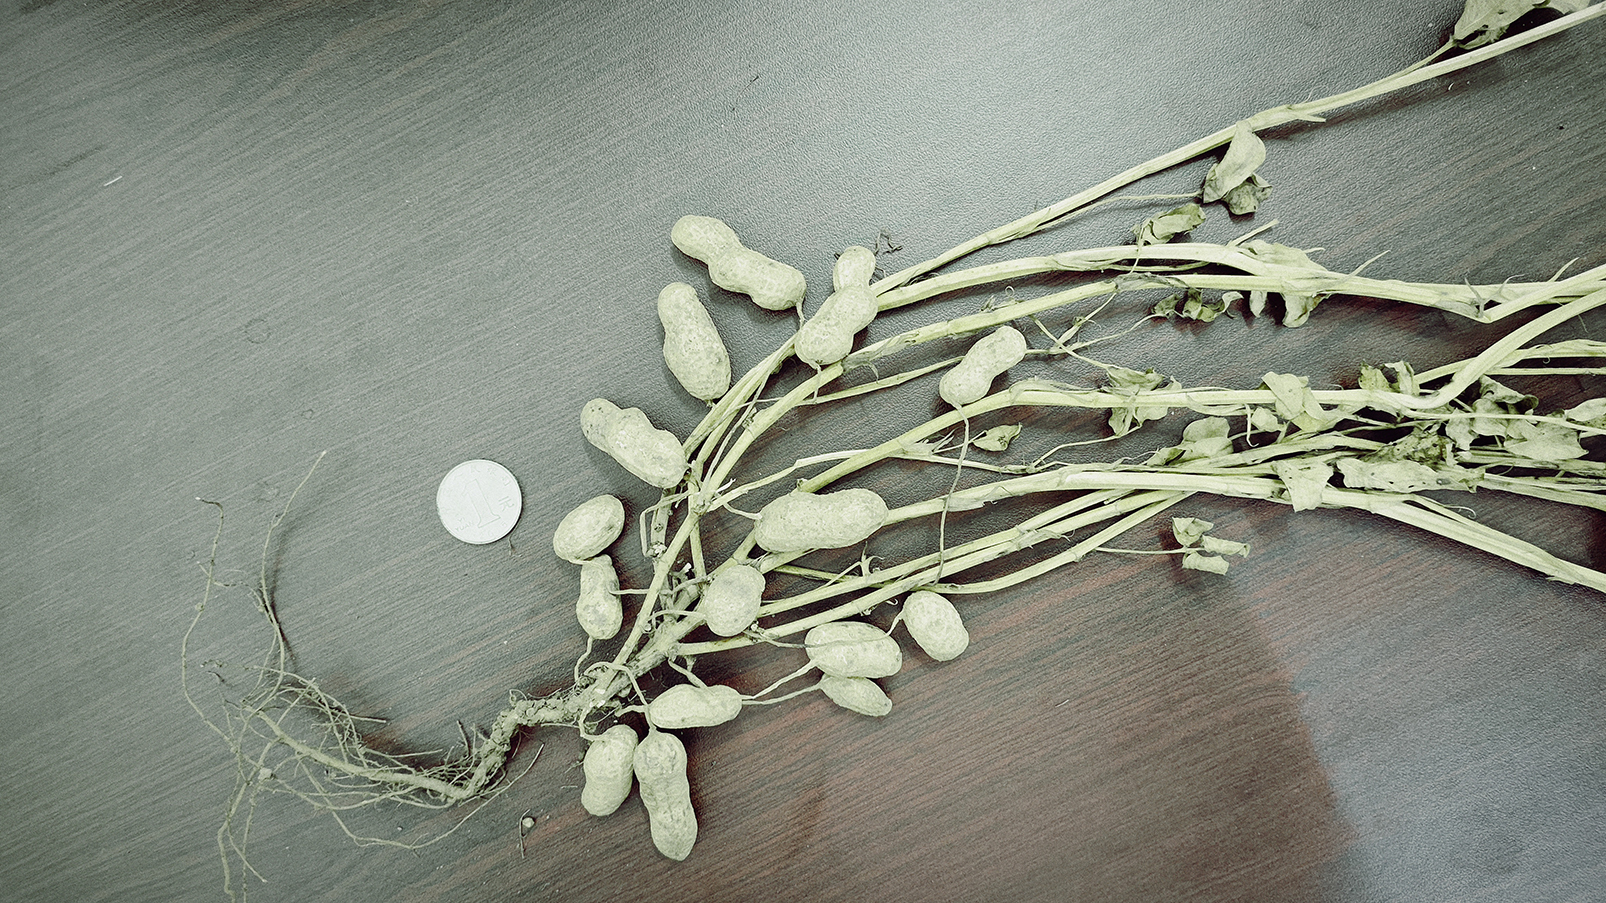h: (670, 213, 804, 310), (795, 244, 879, 367), (580, 397, 687, 490), (752, 486, 890, 550), (657, 282, 730, 399), (633, 733, 699, 861), (938, 324, 1028, 408), (579, 724, 638, 818), (809, 620, 906, 676), (552, 492, 627, 562), (902, 590, 971, 665), (647, 681, 743, 728), (574, 555, 623, 639), (818, 671, 893, 719)
